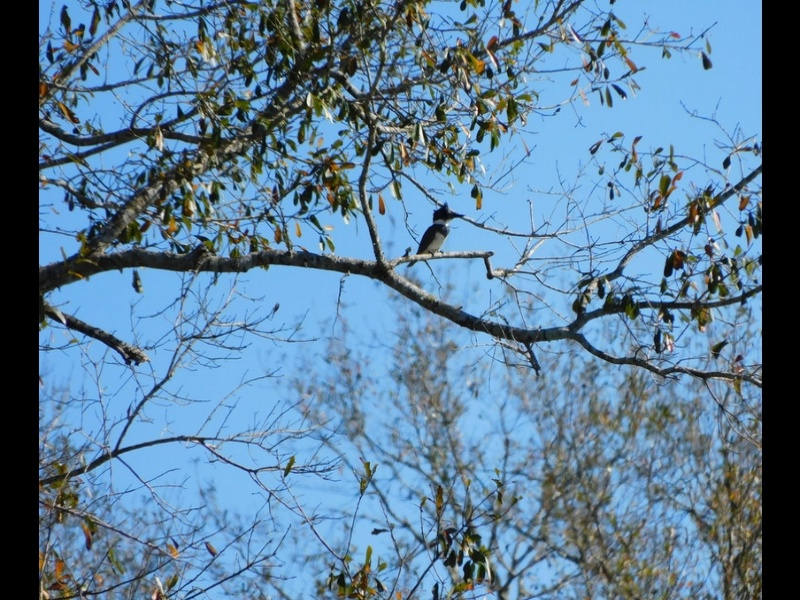kingfisher: (405, 203, 462, 270)
